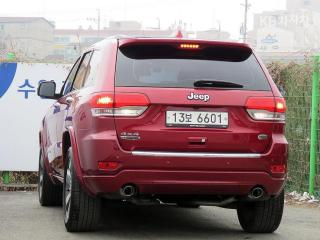0: (209, 112, 217, 124)
1: (217, 113, 224, 125), (172, 111, 179, 122)
3: (178, 112, 185, 123)
6: (196, 114, 205, 123), (203, 113, 210, 124)
plate: (162, 107, 234, 131)
보: (184, 112, 193, 123)
